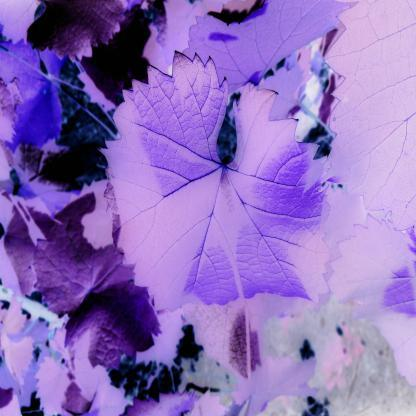grape leaf black rot: (95, 50, 331, 324), (28, 209, 164, 364), (331, 2, 416, 230), (184, 2, 350, 96), (231, 349, 322, 416)
